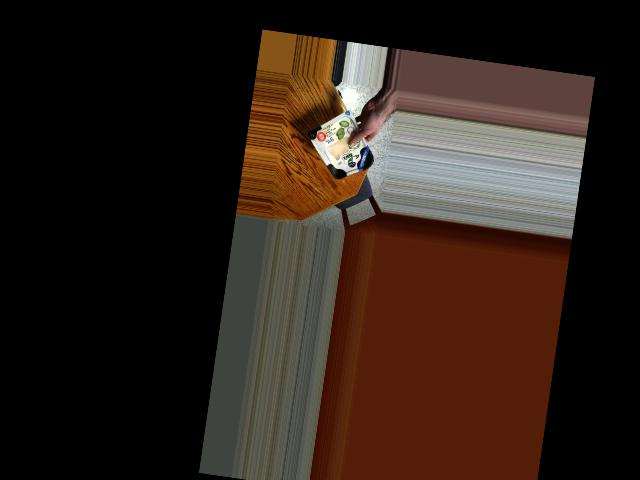cheese: (307, 116, 380, 184)
